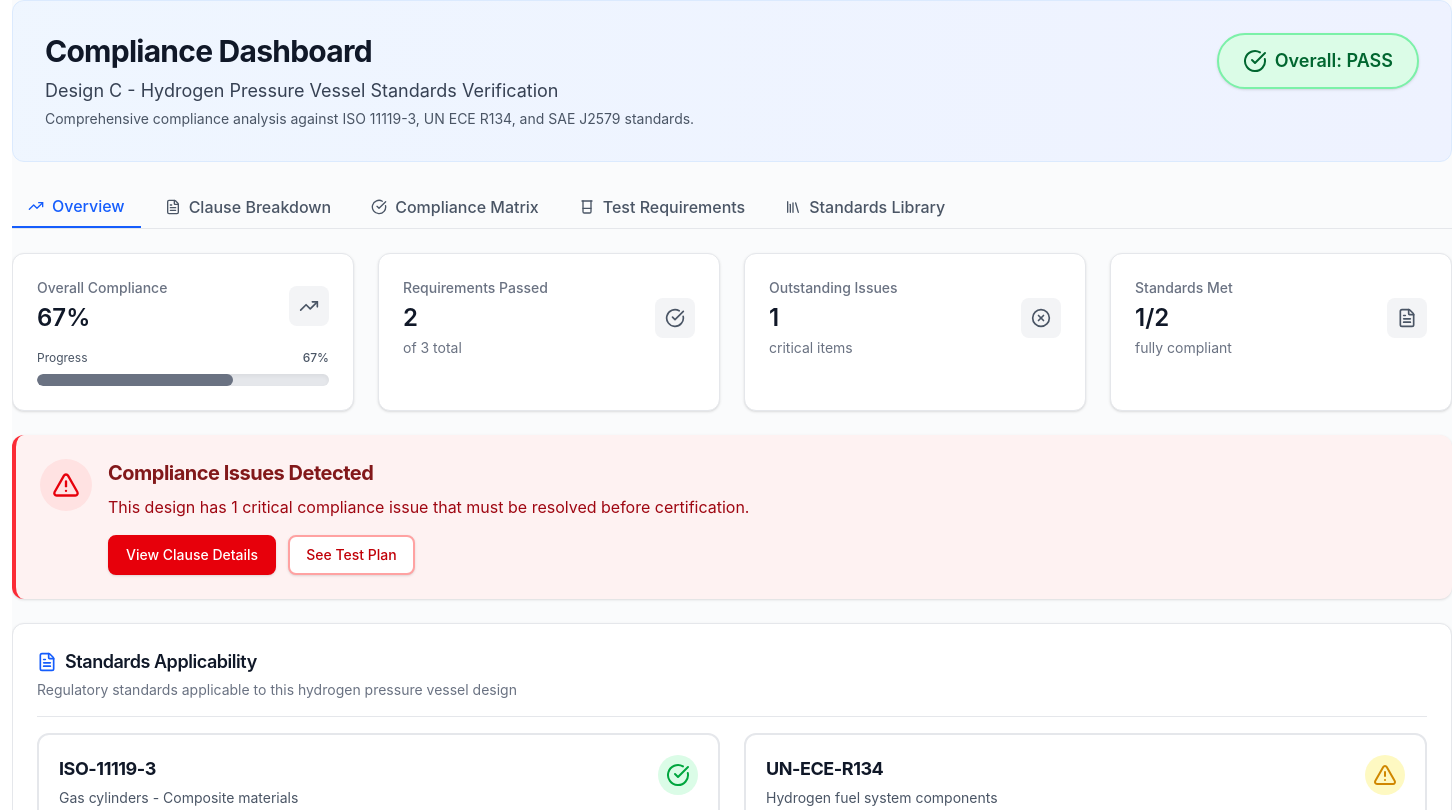
Scenario: ComplianceScreenEnhanced › View Mode Navigation › should switch to test requirements view
Expected: the heading "Compliance Dashboard" is shown, [45, 33, 372, 69]
Click the tab "Test Requirements".
click(662, 207)  # box [563, 186, 761, 228]
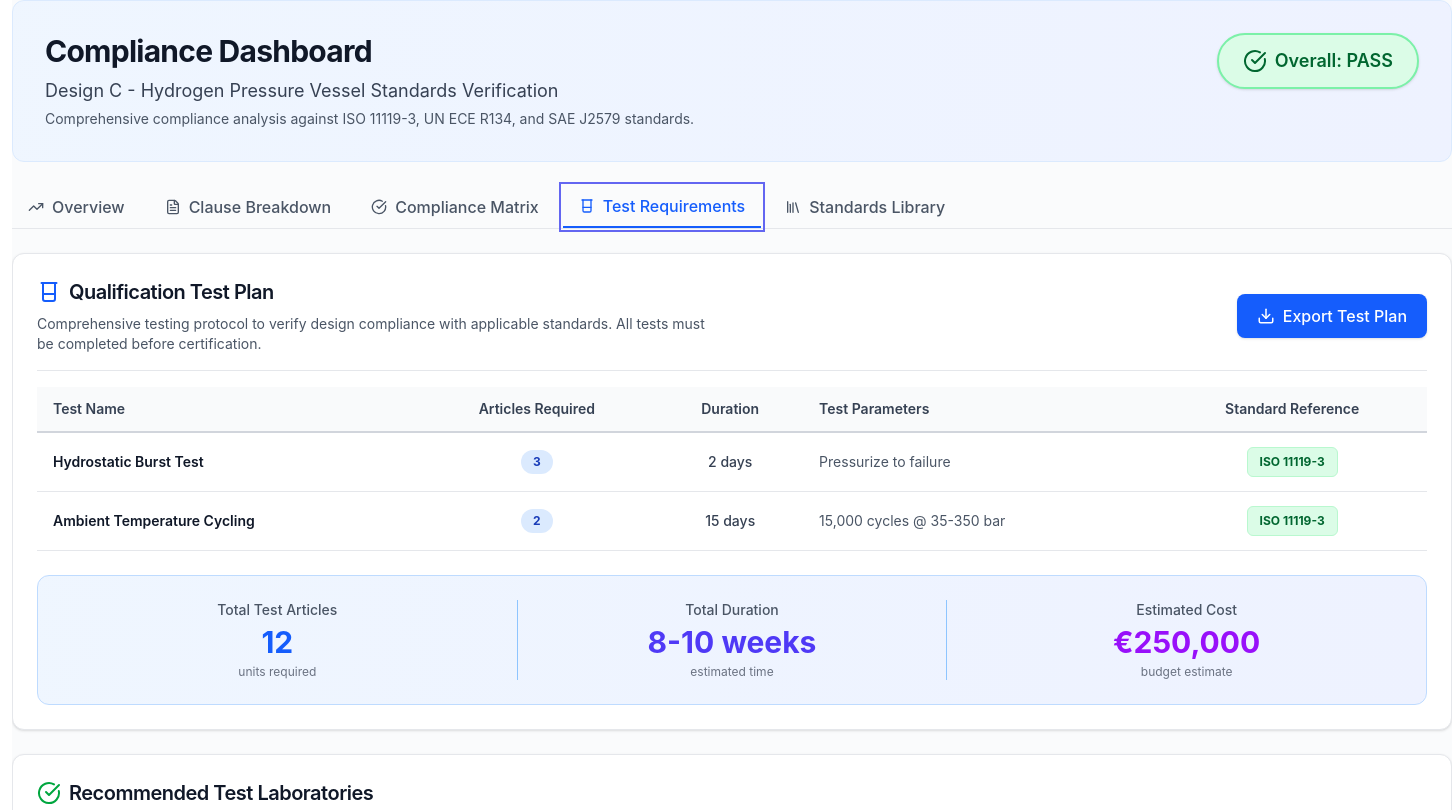
Result: the heading "Qualification Test Plan" is shown at [37, 280, 274, 304]
